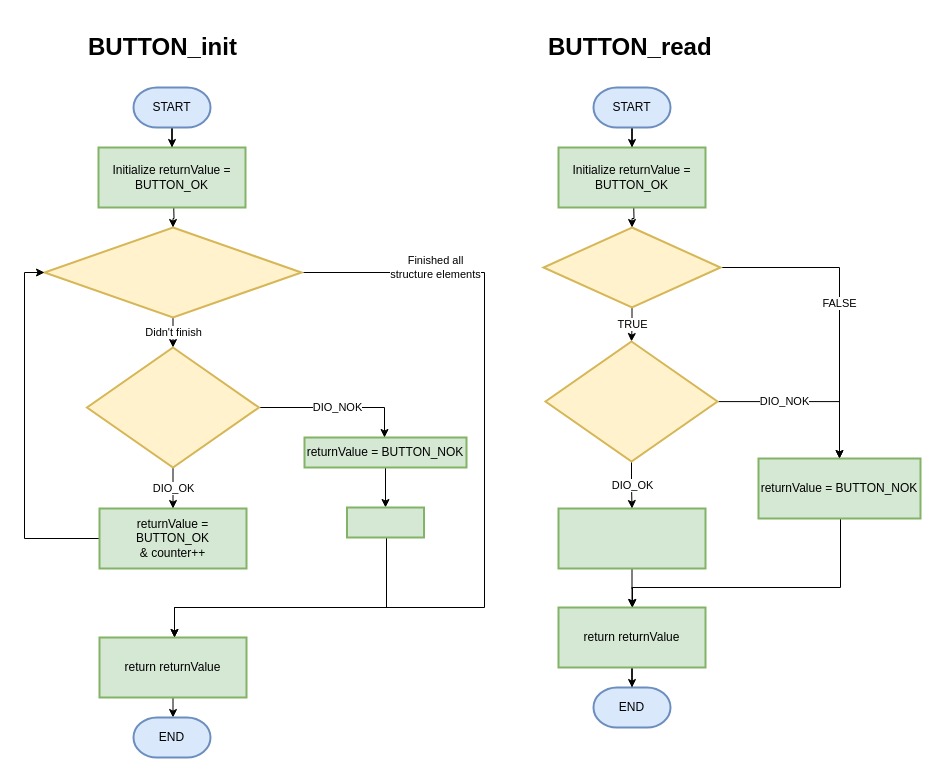
This 939x775 diagram has some shape labels left out. The box of each missing label's shape, as (x1, y1, x2, y2) in pixels:
break;: (346, 506, 424, 538)
Call DIO_init, pass BUTTON's pin and port for every BUTTON as INPUTs: (86, 346, 260, 468)
Call DIO_read, pass BUTTON's pin and port, &buttonState: (544, 340, 718, 462)
Checks on BUTTON_# exists in cfg structure: (542, 226, 721, 308)
returnValue = BUTTON_OK: (557, 507, 706, 569)
while counter < NUMBER_OF_BUTTONS_USED: (43, 226, 302, 318)
